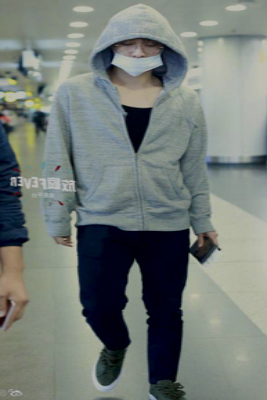mask_weared_incorrect: (109, 40, 164, 77)
